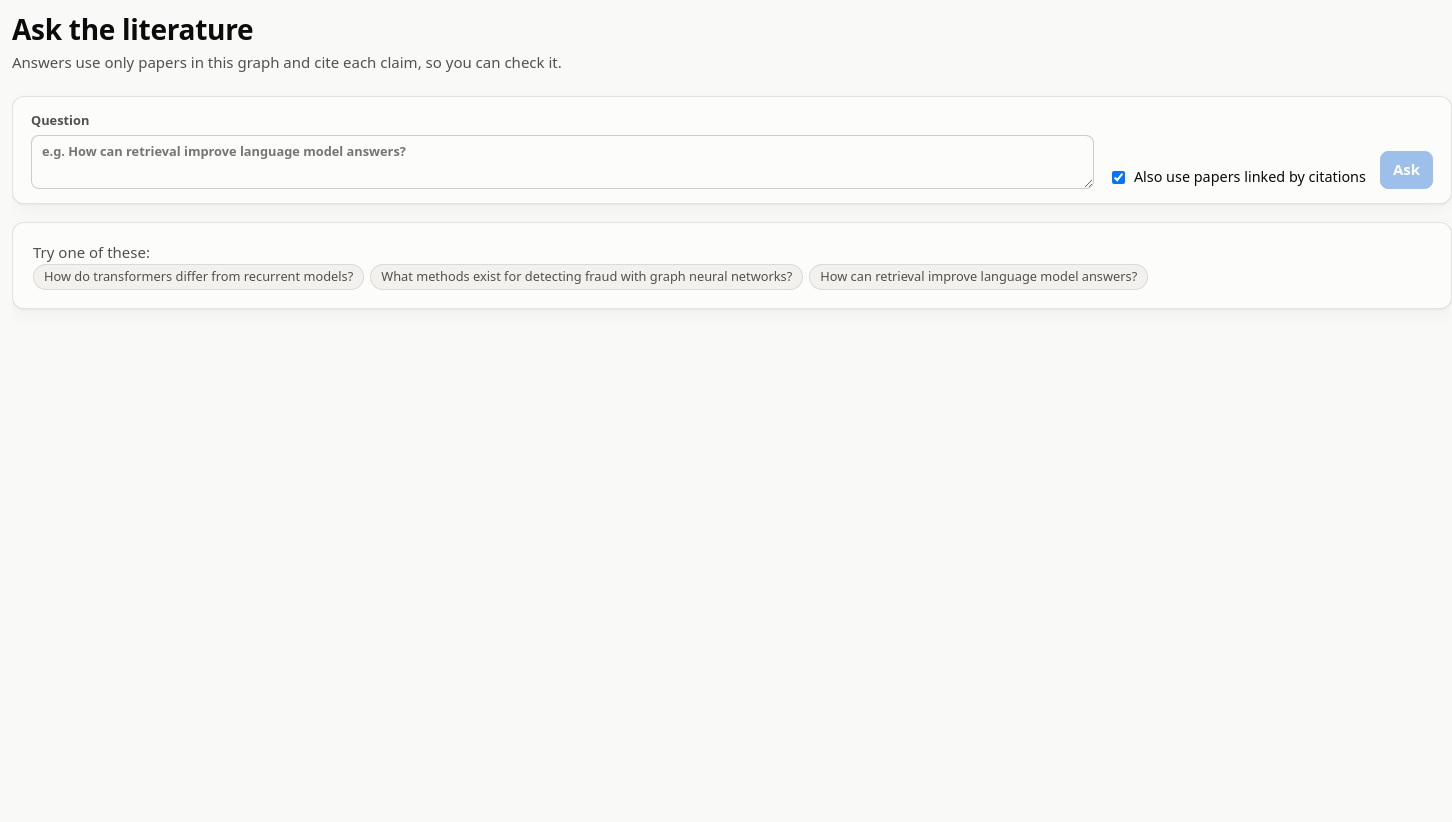
Test case: AskPage › explains unanswerable questions
In the text box labelled "Question": (562, 162) [31, 135, 1094, 189], type "What is attention?"
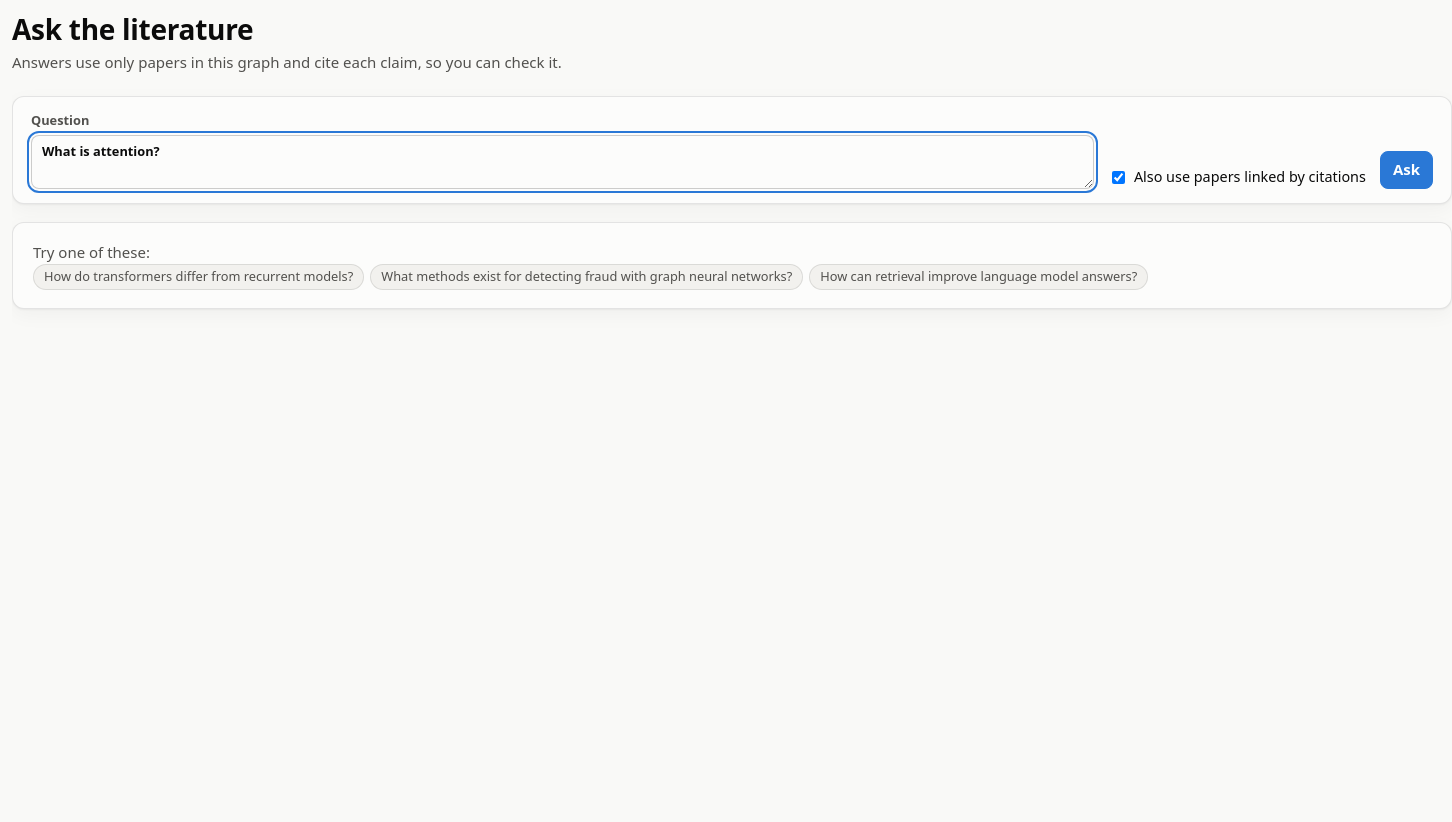
Click the button "Ask": click(1406, 170) [1380, 152, 1433, 189]
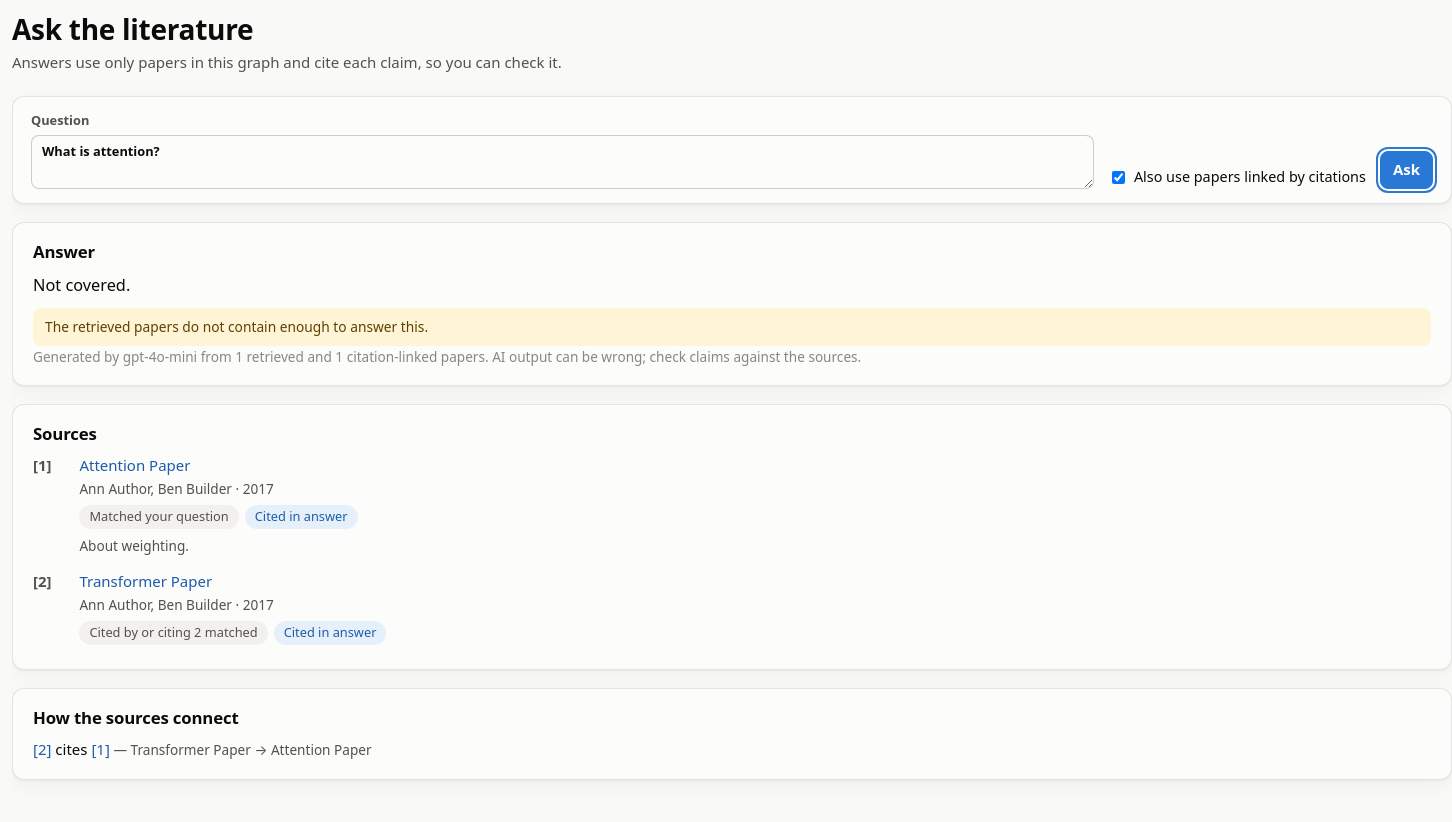
Expected: the text "The retrieved papers do not contain enough to answer this." is shown, [45, 317, 428, 336]
